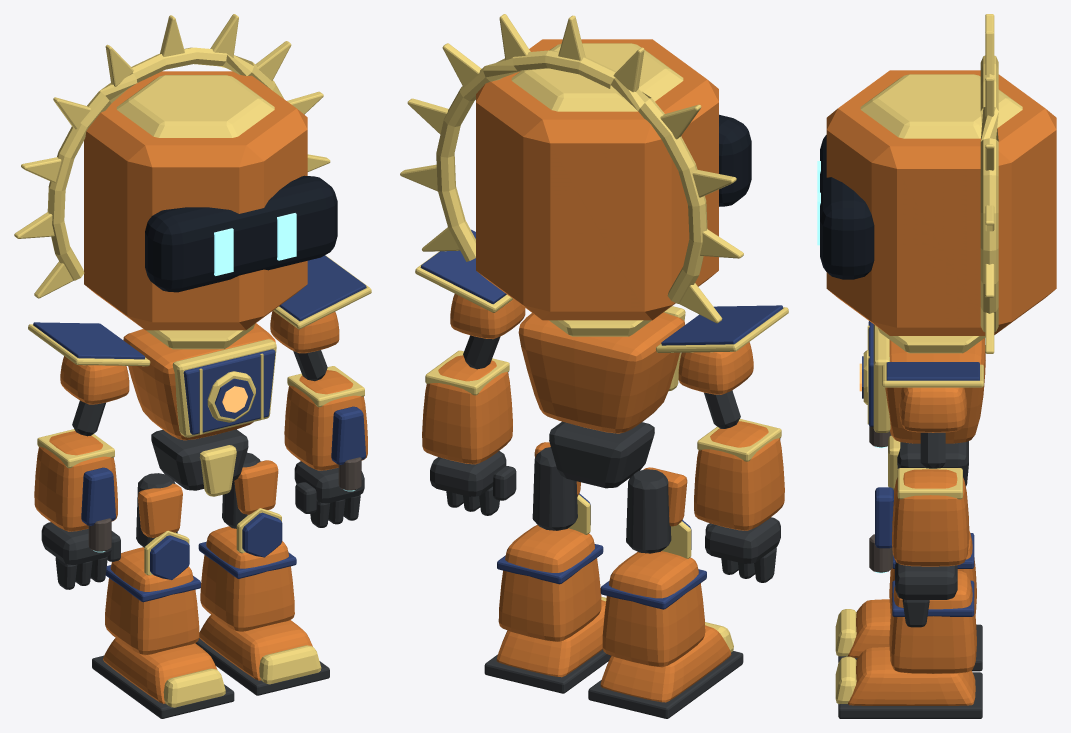
The model's file is solar.glb.
The picture shows the model from 3 angles, left to right: view 1: azimuth 30°, elevation 25°; view 2: azimuth 150°, elevation 25°; view 3: azimuth 270°, elevation 25°; orthographic projection. The views are drawn at different scales.
Parts seen in each view (by area): view 1: cabeca_p.001, visor.001, tampo, bota.003, bota.002, aro_sol, antebraco.003, tronco_p.001, antebraco.002, painel, pe.002, pe.003 (+45 smaller); view 2: cabeca_p.001, tronco_p.001, aro_sol, bota.003, bota.002, antebraco.003, antebraco.002, tampo, pelve.001, pe.003, pe.002, coxa.003 (+32 smaller); view 3: cabeca_p.001, tampo, antebraco.002, bota.002, visor.001, pe.002, aro_sol, tronco_p.001, ombro_p.002, sola.002, mao.002, painel_ombro (+19 smaller).
Part boxes in pixels (<box>): cabeca_p.001: <box>84,71,307,330</box>; visor.001: <box>145,175,337,292</box>; tampo: <box>116,75,274,137</box>; bota.003: <box>105,547,199,655</box>; bota.002: <box>200,526,294,631</box>; aro_sol: <box>47,47,283,280</box>; antebraco.003: <box>34,431,117,531</box>; tronco_p.001: <box>123,323,275,440</box>; antebraco.002: <box>284,370,367,470</box>; painel: <box>183,349,275,434</box>; pe.002: <box>199,614,312,680</box>; pe.003: <box>103,638,217,703</box>; cabeca_p.001: <box>476,39,718,320</box>; tronco_p.001: <box>518,312,684,433</box>; aro_sol: <box>436,50,707,303</box>; bota.003: <box>602,551,705,667</box>; bota.002: <box>498,525,601,641</box>; antebraco.003: <box>694,421,784,530</box>; antebraco.002: <box>422,355,512,464</box>; tampo: <box>511,43,683,111</box>; pelve.001: <box>549,421,654,488</box>; pe.003: <box>600,625,731,702</box>; pe.002: <box>496,600,605,677</box>; coxa.003: <box>626,469,671,553</box>; cabeca_p.001: <box>826,70,1056,335</box>; tampo: <box>860,74,1022,138</box>; antebraco.002: <box>892,469,969,566</box>; bota.002: <box>889,570,976,673</box>; visor.001: <box>820,135,874,279</box>; pe.002: <box>848,647,975,705</box>; aro_sol: <box>980,55,998,331</box>; tronco_p.001: <box>885,338,985,443</box>; ombro_p.002: <box>899,387,967,432</box>; sola.002: <box>838,672,982,718</box>; mao.002: <box>895,562,957,599</box>; painel_ombro: <box>886,362,979,380</box>.
Bounding box in the file's own units: 0.6564 × 1.26 × 0.4225.
